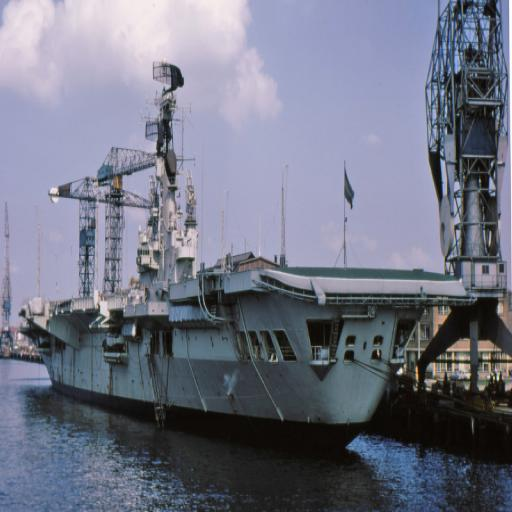Portanaves: (19, 54, 481, 458)
